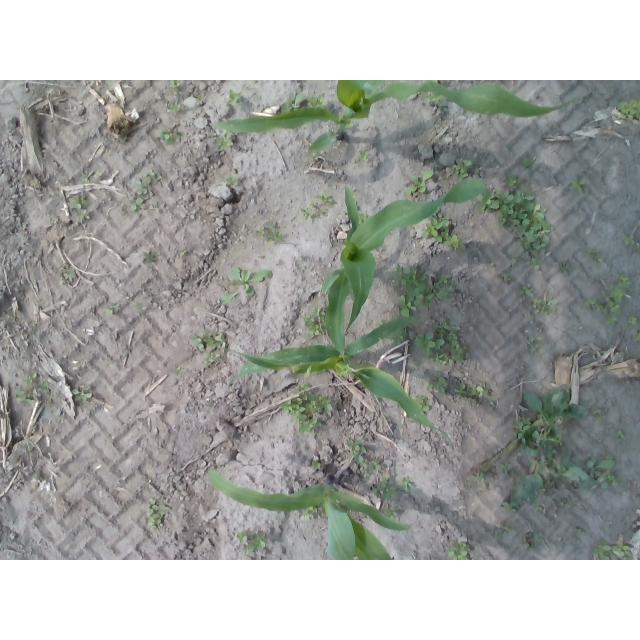Maize: (226, 313, 452, 443), (208, 80, 584, 156), (319, 179, 493, 331), (204, 464, 412, 560)
Weeds: (501, 385, 600, 512), (473, 188, 551, 271), (279, 384, 333, 435), (414, 318, 468, 364), (390, 263, 434, 316), (219, 266, 274, 304), (420, 207, 464, 249), (129, 172, 160, 213), (602, 276, 631, 315), (585, 454, 617, 486), (303, 305, 329, 339), (280, 93, 326, 112), (591, 540, 633, 560), (145, 498, 169, 530), (190, 332, 230, 351), (468, 461, 495, 488), (406, 169, 435, 194), (237, 531, 266, 556), (68, 194, 92, 223), (448, 157, 473, 181), (371, 477, 397, 500), (454, 382, 491, 398), (255, 221, 283, 242), (531, 294, 558, 315), (432, 273, 453, 299), (346, 439, 366, 464), (618, 99, 640, 121), (448, 541, 473, 560), (158, 127, 183, 146), (299, 202, 325, 220), (426, 373, 448, 394), (521, 529, 545, 547), (214, 130, 234, 150), (410, 394, 430, 414), (387, 329, 408, 348), (359, 460, 381, 477), (72, 386, 93, 402), (583, 297, 605, 312), (529, 335, 548, 352), (504, 174, 527, 188), (569, 176, 587, 193), (15, 388, 33, 405), (423, 91, 443, 106), (516, 285, 536, 299), (226, 88, 242, 104), (586, 248, 604, 262), (61, 268, 76, 283), (400, 477, 416, 491), (592, 409, 608, 423), (141, 250, 159, 262), (203, 354, 217, 368), (79, 169, 93, 183), (225, 173, 240, 186), (500, 270, 515, 283), (25, 372, 38, 387), (304, 505, 317, 520), (560, 261, 572, 277), (104, 303, 121, 314), (356, 212, 370, 225), (315, 193, 333, 203), (384, 507, 397, 520), (622, 235, 636, 246), (503, 525, 517, 536), (522, 156, 533, 168), (358, 150, 370, 161), (614, 431, 626, 442), (168, 80, 181, 90), (626, 316, 640, 325), (606, 318, 619, 327), (169, 104, 182, 113), (307, 149, 318, 159), (311, 460, 323, 469), (37, 386, 50, 394), (633, 332, 640, 343), (346, 120, 354, 129), (380, 319, 388, 325), (184, 252, 189, 256)
